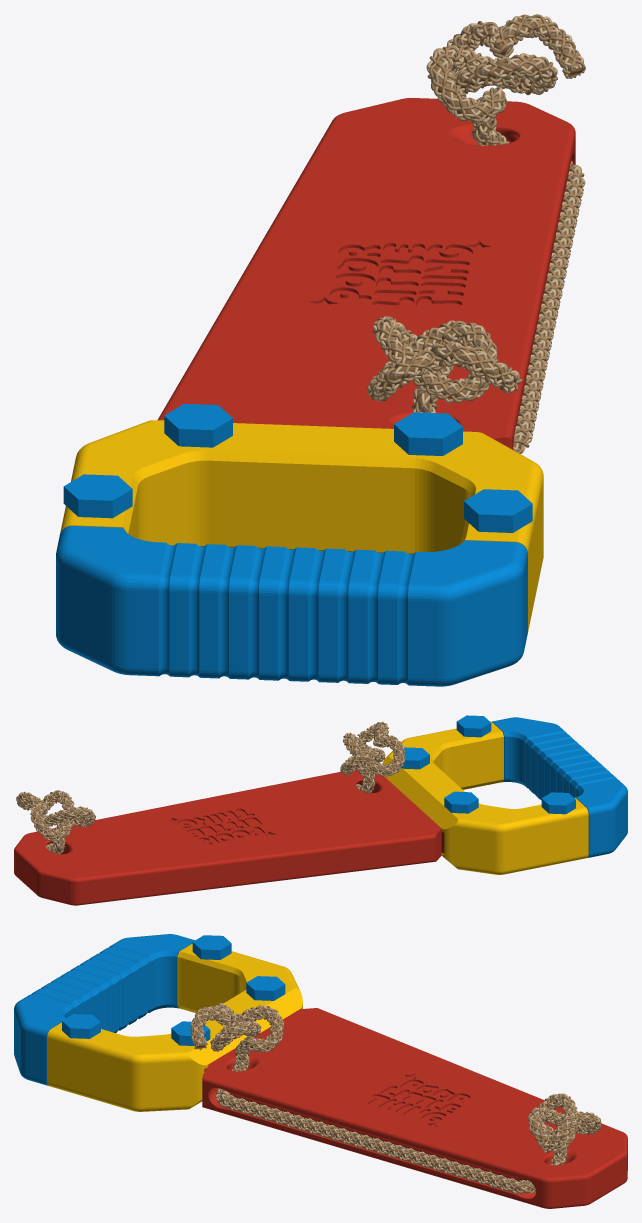
File: rope-saw.glb
3 renders of one model, top to bottom at view 1: azimuth 30°, elevation 25°; view 2: azimuth 150°, elevation 25°; view 3: azimuth 270°, elevation 25°, orthographic. The views are drawn at different scales.
Parts seen in each view (by area): view 1: rope-saw-part-001, rope-saw-part-004, rope-saw-part-003, rope-saw-part-002, rope-saw-part-013, rope-saw-part-019, rope-saw-part-015, rope-saw-part-024, rope-saw-part-020, rope-saw-part-022, rope-saw-part-008, rope-saw-part-006 (+9 smaller); view 2: rope-saw-part-001, rope-saw-part-003, rope-saw-part-004, rope-saw-part-002, rope-saw-part-013, rope-saw-part-019, rope-saw-part-007, rope-saw-part-006, rope-saw-part-008, rope-saw-part-024, rope-saw-part-020, rope-saw-part-015 (+9 smaller); view 3: rope-saw-part-001, rope-saw-part-004, rope-saw-part-003, rope-saw-part-002, rope-saw-part-013, rope-saw-part-024, rope-saw-part-017, rope-saw-part-020, rope-saw-part-019, rope-saw-part-015, rope-saw-part-022, rope-saw-part-025 (+9 smaller).
Part boxes in pixels (x1,y1,x2,y2): rope-saw-part-001: [157, 98, 575, 449]; rope-saw-part-004: [56, 526, 527, 686]; rope-saw-part-003: [60, 420, 543, 591]; rope-saw-part-002: [136, 503, 543, 633]; rope-saw-part-013: [374, 17, 583, 448]; rope-saw-part-019: [368, 20, 583, 442]; rope-saw-part-015: [372, 14, 584, 432]; rope-saw-part-024: [375, 14, 585, 435]; rope-saw-part-020: [367, 20, 581, 447]; rope-saw-part-022: [373, 29, 584, 425]; rope-saw-part-008: [63, 474, 132, 518]; rope-saw-part-006: [164, 403, 232, 447]; rope-saw-part-001: [14, 770, 444, 905]; rope-saw-part-003: [382, 721, 588, 851]; rope-saw-part-004: [492, 717, 627, 857]; rope-saw-part-002: [441, 758, 588, 874]; rope-saw-part-013: [18, 724, 402, 853]; rope-saw-part-019: [24, 722, 402, 853]; rope-saw-part-007: [456, 715, 491, 737]; rope-saw-part-006: [444, 791, 478, 813]; rope-saw-part-008: [541, 792, 575, 814]; rope-saw-part-024: [20, 727, 401, 846]; rope-saw-part-020: [17, 721, 403, 852]; rope-saw-part-015: [18, 727, 405, 850]; rope-saw-part-001: [202, 1008, 627, 1208]; rope-saw-part-004: [14, 934, 194, 1085]; rope-saw-part-003: [47, 943, 302, 1085]; rope-saw-part-002: [47, 981, 232, 1111]; rope-saw-part-013: [193, 1005, 597, 1191]; rope-saw-part-024: [194, 1003, 597, 1192]; rope-saw-part-017: [193, 1007, 601, 1193]; rope-saw-part-020: [192, 1005, 601, 1190]; rope-saw-part-019: [192, 1003, 597, 1192]; rope-saw-part-015: [190, 1005, 598, 1191]; rope-saw-part-022: [190, 1011, 588, 1193]; rope-saw-part-025: [197, 1003, 600, 1190].
Bounding box in the file's own units: 2.74 × 0.5453 × 3.
